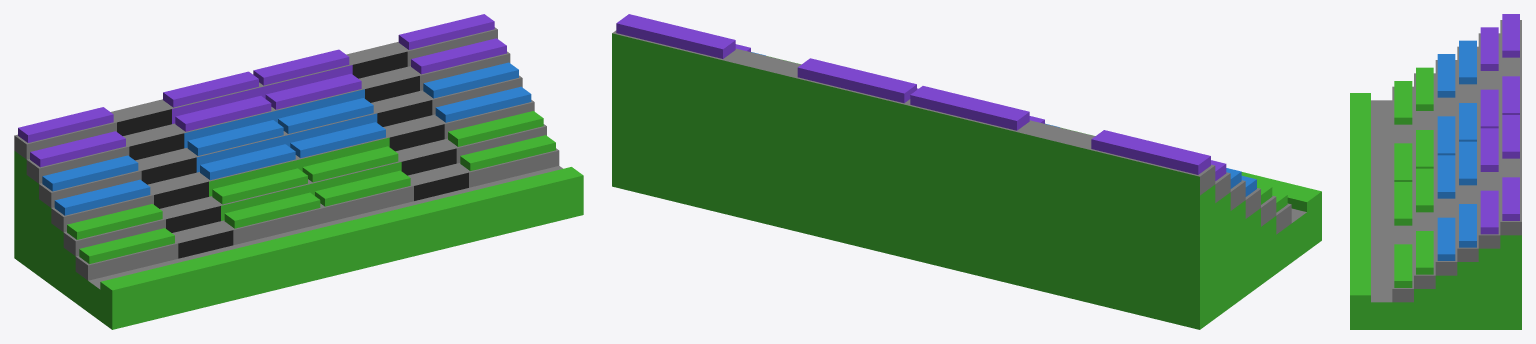
Rendered from Team2Bleachers.fbx.
The picture shows the model from 3 angles, left to right: view 1: azimuth 30°, elevation 25°; view 2: azimuth 150°, elevation 25°; view 3: azimuth 270°, elevation 25°; orthographic projection. The views are drawn at different scales.
Visible parts, largest first — view 1: Plane; view 2: Plane; view 3: Plane.
Boxes of the visible parts, left/top/right/bottom form: Plane: left=14, top=14, right=583, bottom=329; Plane: left=612, top=14, right=1321, bottom=329; Plane: left=1350, top=14, right=1521, bottom=329.
Size of the model in its own units: 3239 by 858 by 1165.
